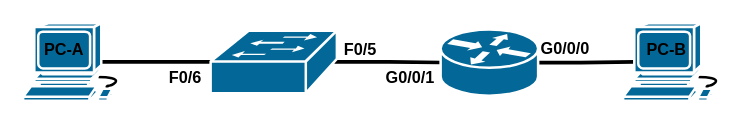
Image size: 749x123. Some labels were removed from this diagram. Each missing label, with the box of its shape:
R1: (439, 28, 539, 96)
S1: (209, 29, 338, 94)
